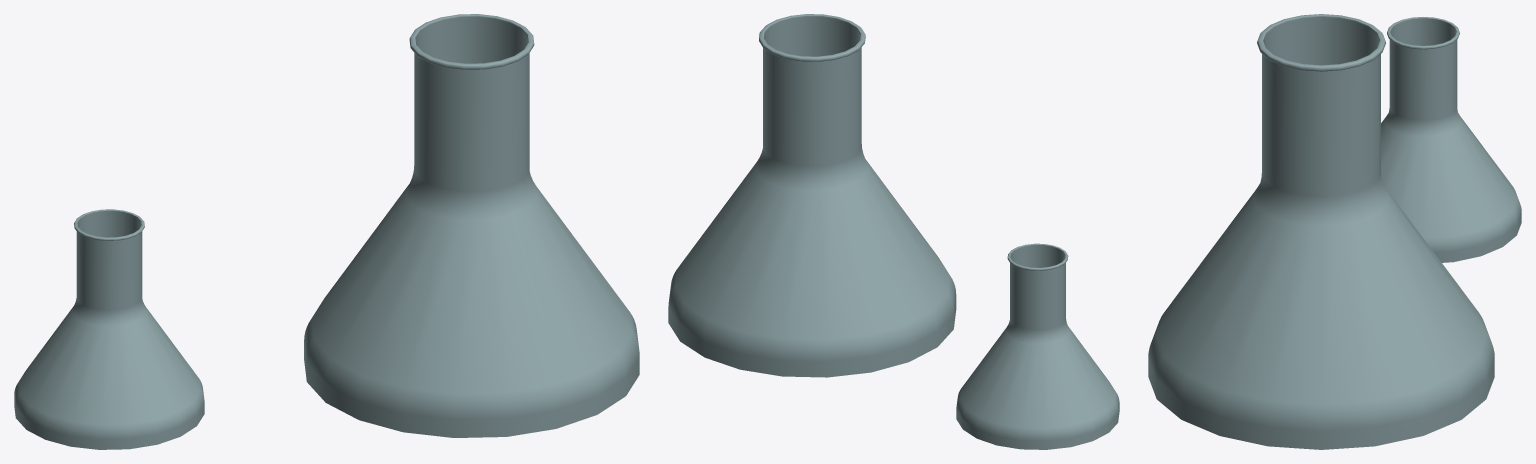
File: Flasks.fbx
The picture shows the model from 3 angles, left to right: view 1: azimuth 30°, elevation 25°; view 2: azimuth 150°, elevation 25°; view 3: azimuth 270°, elevation 25°; orthographic projection. The views are drawn at different scales.
Visible parts, largest first — view 1: pCylinder33, pCylinder34; view 2: pCylinder33, pCylinder34; view 3: pCylinder33, pCylinder34.
Part boxes in pixels (x1,y1,x2,y2): pCylinder33: (304,14,639,437); pCylinder34: (14,209,204,449); pCylinder33: (668,14,956,377); pCylinder34: (956,243,1119,449); pCylinder33: (1148,14,1494,449); pCylinder34: (1381,17,1521,262).
Bounding box in the file's own units: 1.35 × 0.7845 × 0.7829.
